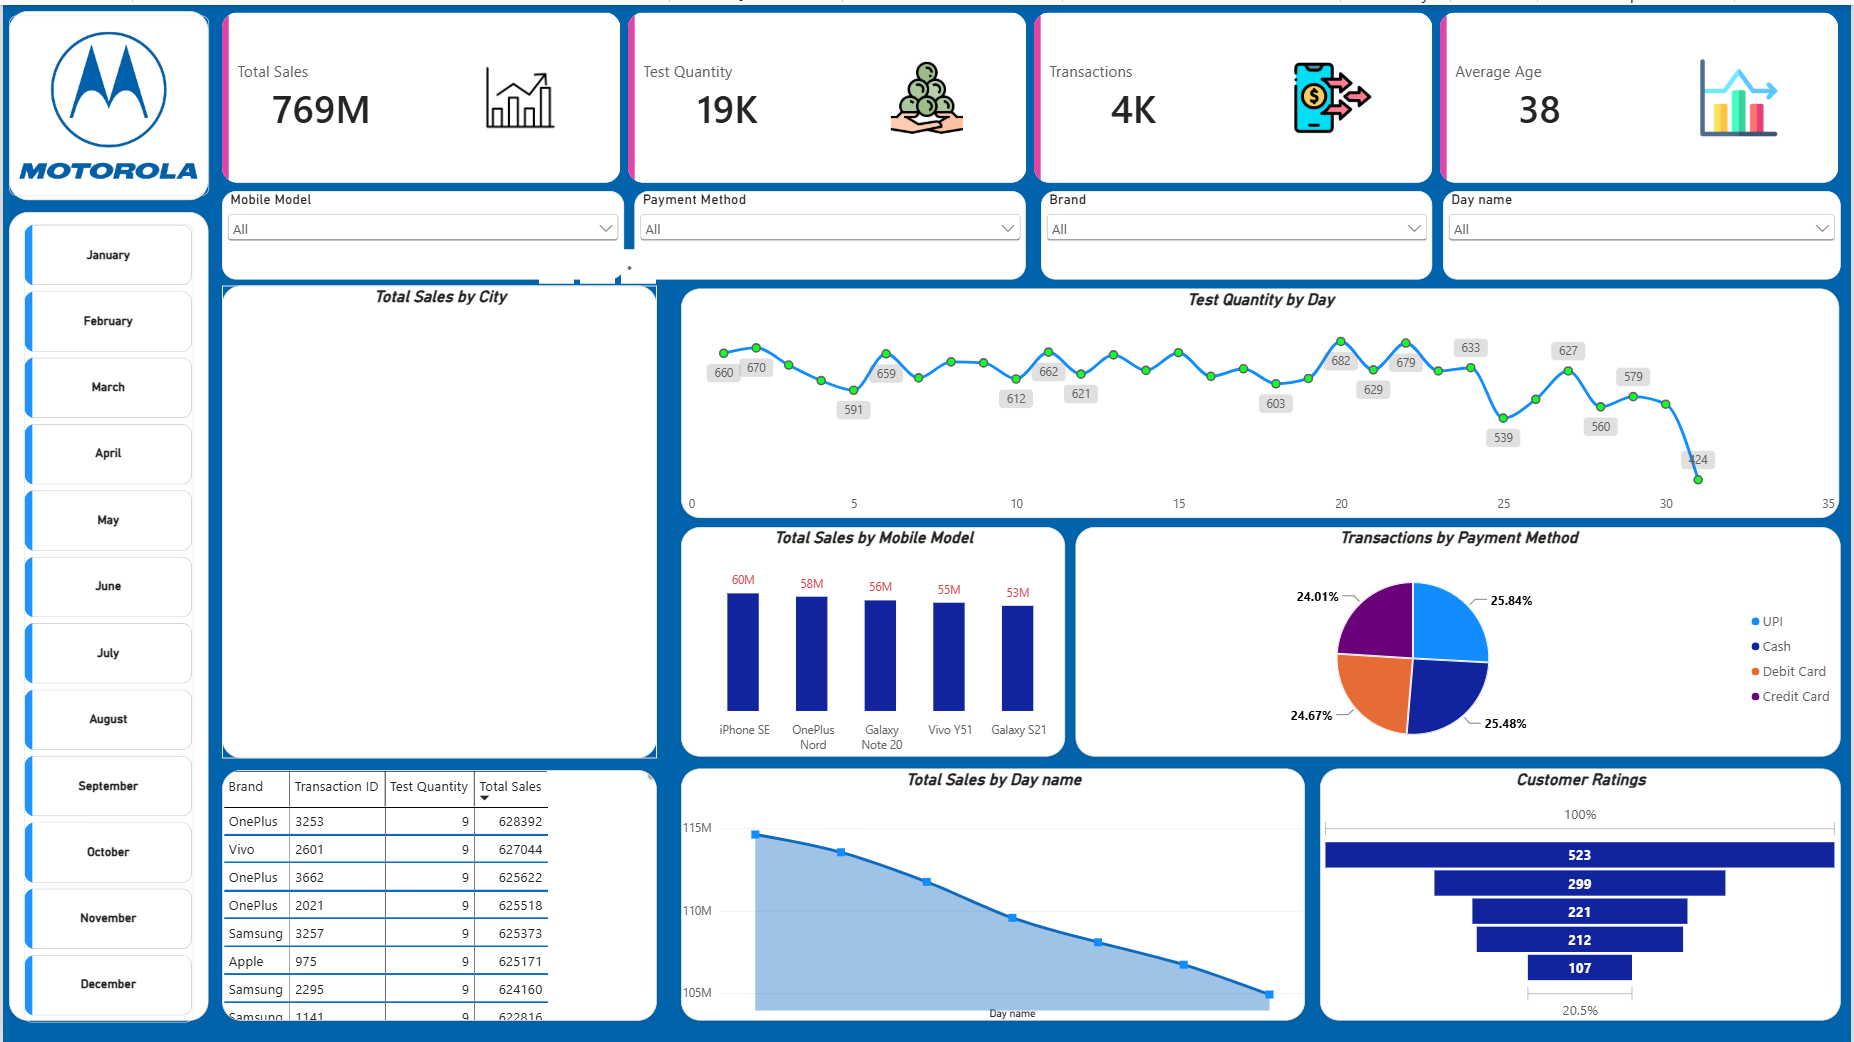

Layout of this report page (visuals, bound fields, positions):
{"tool":"powerbi","page":{"name":"Page 1","canvas":[1920,1080],"ordinal":0},"visuals":[{"type":"shape","box":[6.2,6.2,207.4,196.5],"z":0},{"type":"image","box":[6.3,11.1,207.9,187.3],"z":1000},{"type":"shape","box":[6.2,215.2,207.4,840.4],"z":2000},{"type":"advancedSlicerVisual","fields":{"Values":["Sales_Data.Date.Variation.Date Hierarchy.Month"]},"box":[22.2,227,176.2,830.2],"z":3000},{"type":"cardVisual","fields":{"Data":["Sales_Data.Total Sales","Sales_Data.Test Quantity","Sales_Data.Transactions","Sales_Data.Average Age"]},"box":[227.6,7.8,1680.8,177.8],"z":4000},{"type":"map","fields":{"Category":["Sales_Data.City"],"Size":["Sales_Data.Total Sales"]},"box":[227.6,291.6,452.2,491.2],"z":5000},{"type":"lineChart","fields":{"Category":["Sales_Data.Date.Variation.Date Hierarchy.Month","Sales_Data.Date.Variation.Date Hierarchy.Day"],"Y":["Sales_Data.Test Quantity"]},"box":[704.8,294.7,1203.7,238.6],"z":6000},{"type":"clusteredColumnChart","fields":{"Category":["Sales_Data.Mobile Model"],"Y":["Sales_Data.Total Sales"]},"box":[704.8,542.6,399.2,238.6],"z":7000},{"type":"pieChart","fields":{"Category":["Sales_Data.Payment Method"],"Y":["Sales_Data.Transactions"]},"box":[1114.8,542.6,795.2,238.6],"z":8000},{"type":"funnel","title":"Customer Ratings","fields":{"Category":["Sales_Data.Customer Ratings"],"Y":["CountNonNull(Sales_Data.Customer Ratings)"]},"box":[1369,793.6,541,261.9],"z":9000},{"type":"areaChart","fields":{"Category":["Sales_Data.Day name"],"Y":["Sales_Data.Total Sales"]},"box":[704.8,793.6,648.6,261.9],"z":10000},{"type":"tableEx","fields":{"Values":["Sales_Data.Brand","Sales_Data.Transaction ID","Sales_Data.Test Quantity","Sales_Data.Total Sales"]},"box":[227.6,795.2,452.2,260.4],"z":11000},{"type":"slicer","fields":{"Values":["Sales_Data.Mobile Model"]},"box":[227.6,193.3,417.9,92],"z":11001},{"type":"slicer","fields":{"Values":["Sales_Data.Payment Method"]},"box":[656.4,193.3,407,92],"z":11002},{"type":"slicer","fields":{"Values":["Sales_Data.Brand"]},"box":[1079,193.3,407,92],"z":11003},{"type":"slicer","fields":{"Values":["Sales_Data.Day name"]},"box":[1496.8,193.3,413.2,92],"z":11004}]}

Visuals, with their boxes in screenshot pixels (x1, y1, x2, y2), scaled from the page's 1920x1080 canvas onto the 1854x1042 screenshot:
shape: 6 6 206 196
image: 6 11 207 191
shape: 6 208 206 1018
advancedSlicerVisual - Sales_Data.Date.Variation.Date Hierarchy.Month: 21 219 192 1020
cardVisual - Sales_Data.Total Sales x Sales_Data.Test Quantity: 220 8 1843 179
map - Sales_Data.City x Sales_Data.Total Sales: 220 281 656 755
lineChart - Sales_Data.Date.Variation.Date Hierarchy.Month x Sales_Data.Date.Variation.Date Hierarchy.Day: 681 284 1843 515
clusteredColumnChart - Sales_Data.Mobile Model x Sales_Data.Total Sales: 681 524 1066 754
pieChart - Sales_Data.Payment Method x Sales_Data.Transactions: 1076 524 1844 754
"Customer Ratings" funnel: 1322 766 1844 1018
areaChart - Sales_Data.Day name x Sales_Data.Total Sales: 681 766 1307 1018
tableEx - Sales_Data.Brand x Sales_Data.Transaction ID: 220 767 656 1018
slicer - Sales_Data.Mobile Model: 220 186 623 275
slicer - Sales_Data.Payment Method: 634 186 1027 275
slicer - Sales_Data.Brand: 1042 186 1435 275
slicer - Sales_Data.Day name: 1445 186 1844 275
